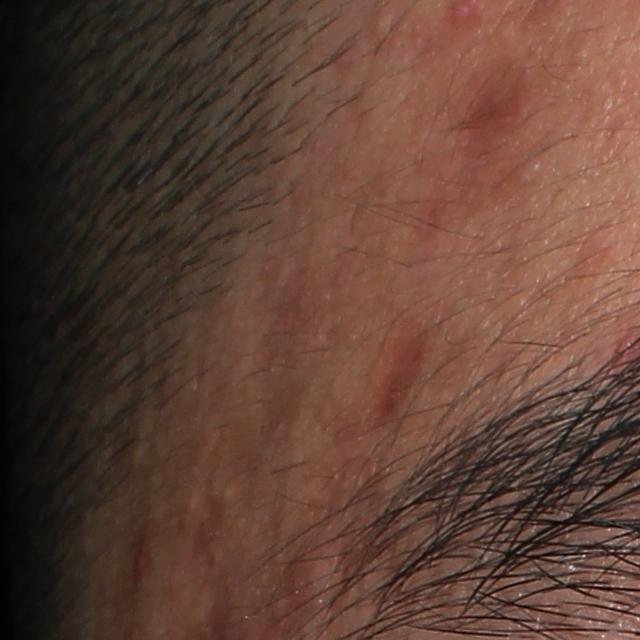atrophic_scar: (172, 425, 258, 636), (252, 238, 311, 441), (442, 59, 523, 165), (354, 322, 429, 433)
papule: (132, 539, 152, 578)
